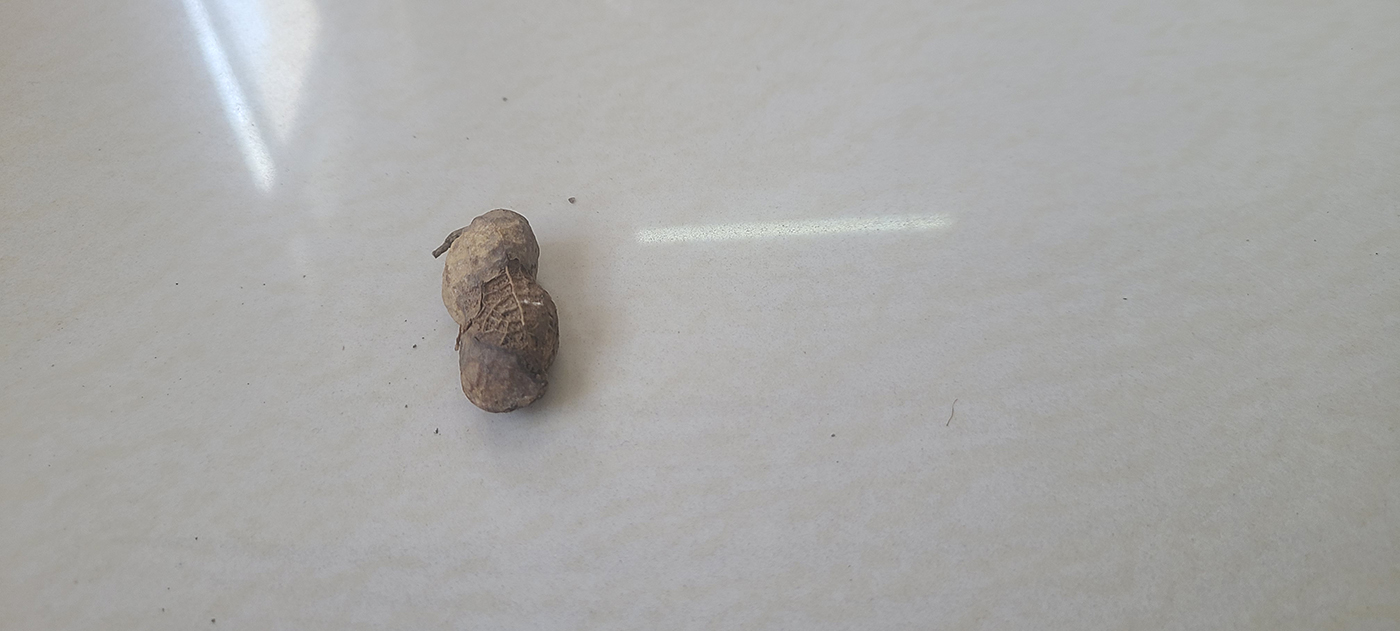l: (429, 211, 561, 414)
